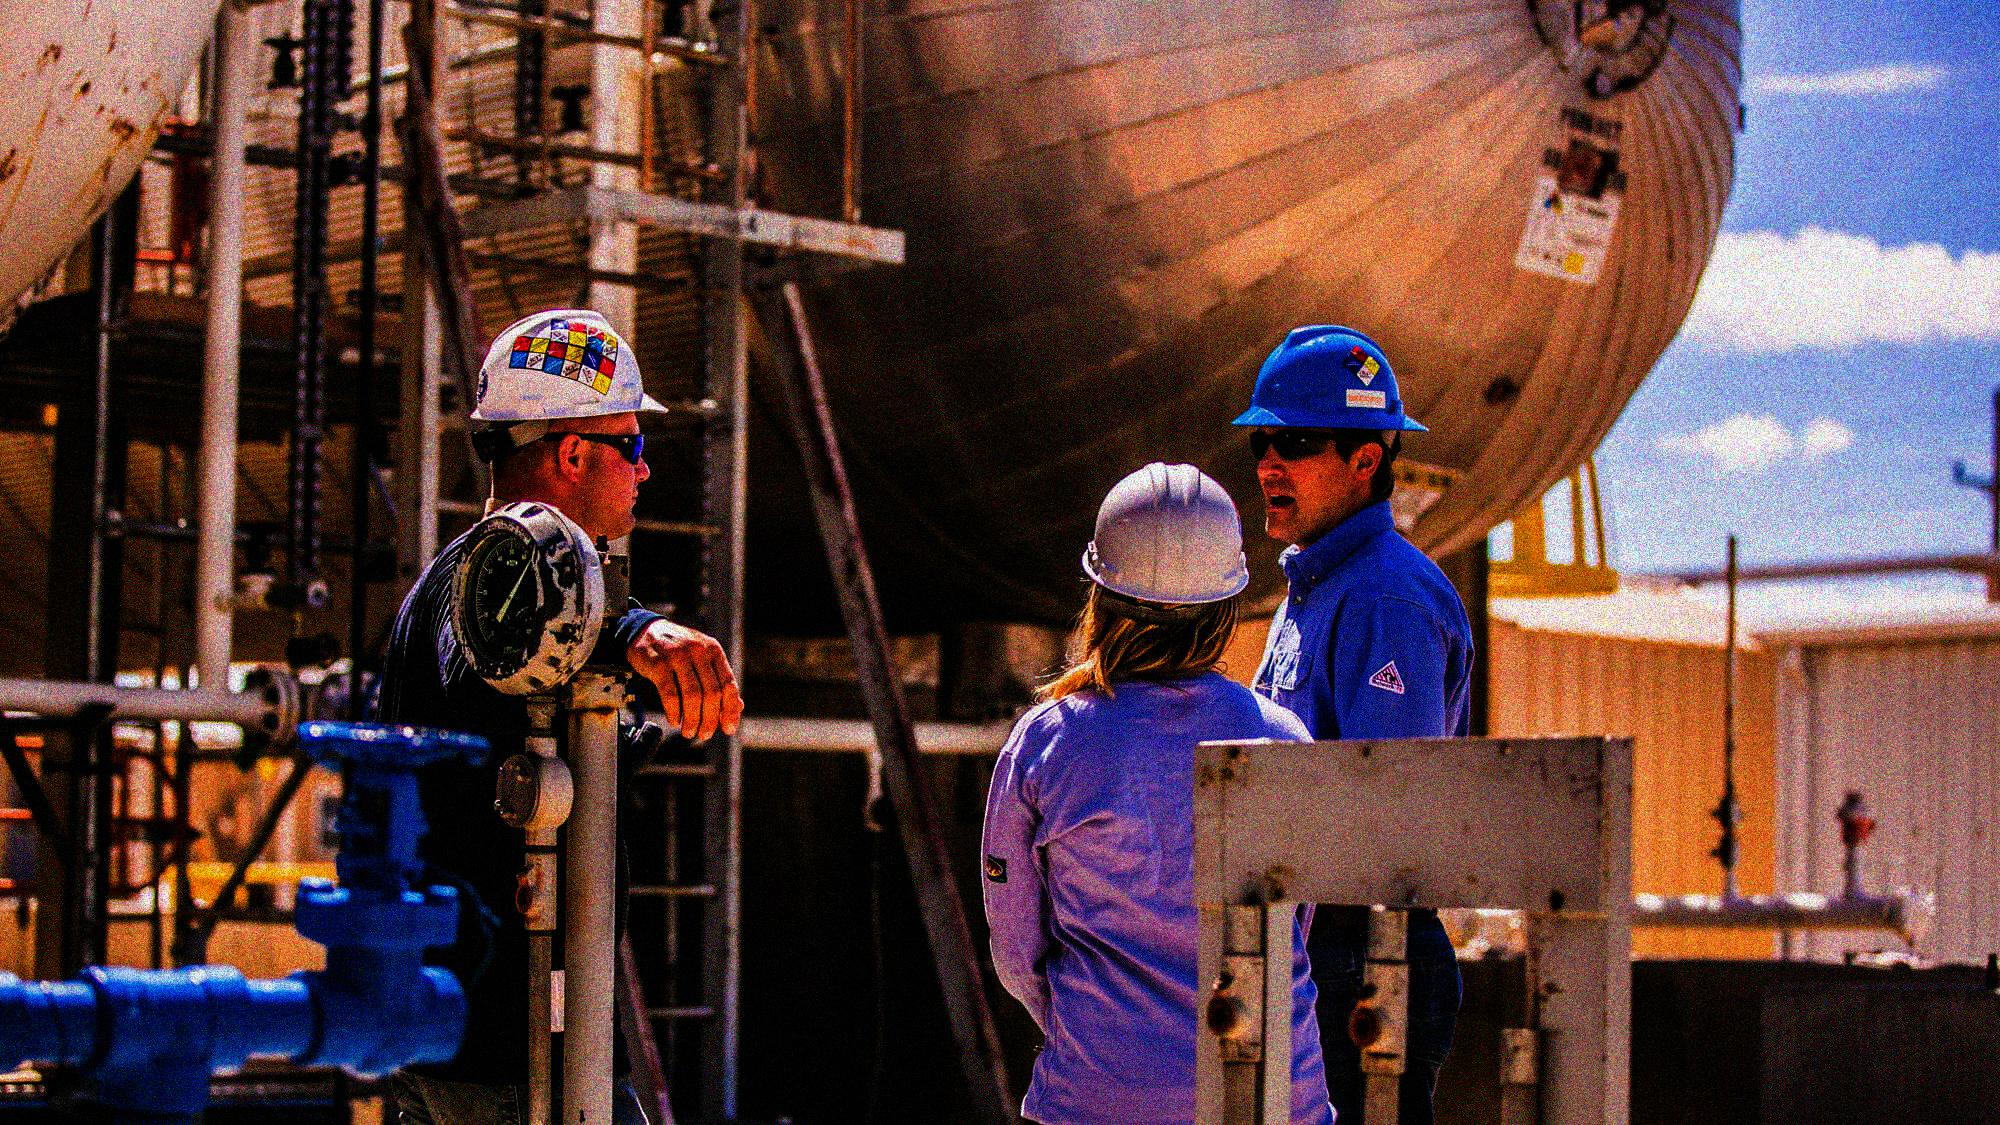helmet: (463, 304, 674, 538), (1223, 316, 1434, 545), (1085, 457, 1251, 662)
